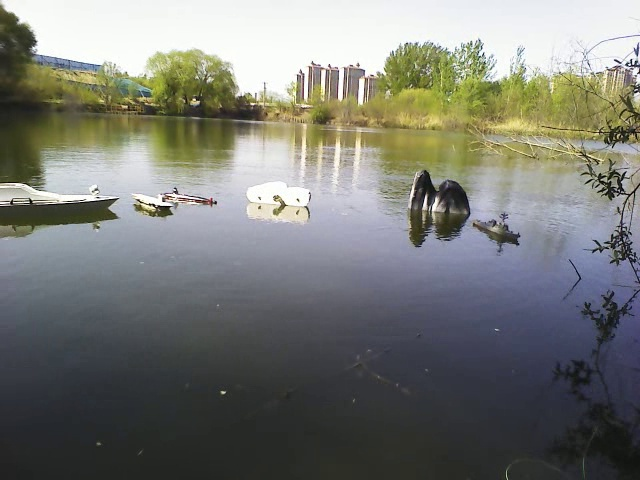aircraft_carrier: (130, 190, 171, 215)
boat: (4, 170, 121, 224)
iceberg: (246, 176, 316, 214)
rock: (404, 165, 472, 219)
submarine: (162, 186, 219, 210)
warship: (475, 213, 521, 245)
